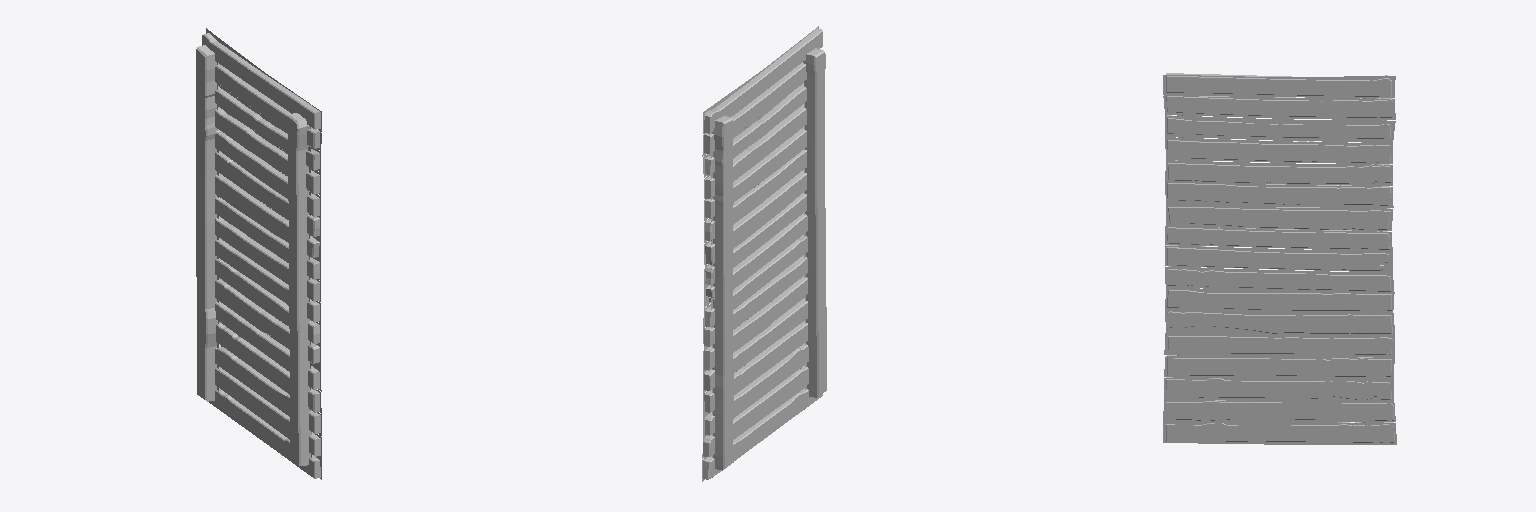
Rendered from bridge_planks.obj.
The picture shows the model from 3 angles: view 1: azimuth 30°, elevation 25°; view 2: azimuth 150°, elevation 25°; view 3: azimuth 270°, elevation 25°; orthographic projection.
Visible parts, largest first — view 1: 210703-1518_APC_0149-hdr-Pano.018, 210703-1518_APC_0149-hdr-Pano.019, 210703-1518_APC_0149-hdr-Pano.017, 210703-1518_APC_0149-hdr-Pano.014, 210703-1518_APC_0149-hdr-Pano.011, 210703-1518_APC_0149-hdr-Pano.001, 210703-1518_APC_0149-hdr-Pano.003, 210703-1518_APC_0149-hdr-Pano.004, 210703-1518_APC_0149-hdr-Pano.006, 210703-1518_APC_0149-hdr-Pano.002, 210703-1518_APC_0149-hdr-Pano.005, 210703-1518_APC_0149-hdr-Pano.009 (+7 smaller); view 2: 210703-1518_APC_0149-hdr-Pano.018, 210703-1518_APC_0149-hdr-Pano.019, 210703-1518_APC_0149-hdr-Pano.017, 210703-1518_APC_0149-hdr-Pano.014, 210703-1518_APC_0149-hdr-Pano.001, 210703-1518_APC_0149-hdr-Pano.011, 210703-1518_APC_0149-hdr-Pano.003, 210703-1518_APC_0149-hdr-Pano.002, 210703-1518_APC_0149-hdr-Pano.006, 210703-1518_APC_0149-hdr-Pano.004, 210703-1518_APC_0149-hdr-Pano.005, 210703-1518_APC_0149-hdr-Pano.013 (+7 smaller); view 3: 210703-1518_APC_0149-hdr-Pano.006, 210703-1518_APC_0149-hdr-Pano.001, 210703-1518_APC_0149-hdr-Pano.003, 210703-1518_APC_0149-hdr-Pano.011, 210703-1518_APC_0149-hdr-Pano.004, 210703-1518_APC_0149-hdr-Pano.017, 210703-1518_APC_0149-hdr-Pano.012, 210703-1518_APC_0149-hdr-Pano.014, 210703-1518_APC_0149-hdr-Pano.015, 210703-1518_APC_0149-hdr-Pano.002, 210703-1518_APC_0149-hdr-Pano.005, 210703-1518_APC_0149-hdr-Pano.013 (+5 smaller).
Part boxes in pixels (x1,y1,x2,y2): 210703-1518_APC_0149-hdr-Pano.018: (196,45,218,401); 210703-1518_APC_0149-hdr-Pano.019: (288,113,311,465); 210703-1518_APC_0149-hdr-Pano.017: (202,28,321,131); 210703-1518_APC_0149-hdr-Pano.014: (215,105,320,195); 210703-1518_APC_0149-hdr-Pano.011: (215,173,320,261); 210703-1518_APC_0149-hdr-Pano.001: (209,388,321,479); 210703-1518_APC_0149-hdr-Pano.003: (215,344,321,435); 210703-1518_APC_0149-hdr-Pano.004: (216,322,321,413); 210703-1518_APC_0149-hdr-Pano.006: (215,278,320,367); 210703-1518_APC_0149-hdr-Pano.002: (215,367,321,458); 210703-1518_APC_0149-hdr-Pano.005: (215,301,321,391); 210703-1518_APC_0149-hdr-Pano.009: (215,216,320,301); 210703-1518_APC_0149-hdr-Pano.018: (711,116,734,470); 210703-1518_APC_0149-hdr-Pano.019: (803,48,826,397); 210703-1518_APC_0149-hdr-Pano.017: (703,26,822,133); 210703-1518_APC_0149-hdr-Pano.014: (704,103,806,198); 210703-1518_APC_0149-hdr-Pano.001: (702,388,822,481); 210703-1518_APC_0149-hdr-Pano.011: (704,170,806,265); 210703-1518_APC_0149-hdr-Pano.003: (703,343,808,437); 210703-1518_APC_0149-hdr-Pano.002: (702,365,808,458); 210703-1518_APC_0149-hdr-Pano.006: (703,276,807,371); 210703-1518_APC_0149-hdr-Pano.004: (703,321,807,415); 210703-1518_APC_0149-hdr-Pano.005: (703,296,807,393); 210703-1518_APC_0149-hdr-Pano.013: (704,127,806,220); 210703-1518_APC_0149-hdr-Pano.006: (1165,309,1394,335); 210703-1518_APC_0149-hdr-Pano.001: (1163,421,1396,444); 210703-1518_APC_0149-hdr-Pano.003: (1164,377,1393,401); 210703-1518_APC_0149-hdr-Pano.011: (1166,202,1392,230); 210703-1518_APC_0149-hdr-Pano.004: (1164,355,1394,379); 210703-1518_APC_0149-hdr-Pano.017: (1163,73,1395,97); 210703-1518_APC_0149-hdr-Pano.012: (1165,181,1393,207); 210703-1518_APC_0149-hdr-Pano.014: (1165,137,1392,163); 210703-1518_APC_0149-hdr-Pano.015: (1165,115,1395,142); 210703-1518_APC_0149-hdr-Pano.002: (1163,400,1395,421); 210703-1518_APC_0149-hdr-Pano.005: (1164,332,1394,357); 210703-1518_APC_0149-hdr-Pano.013: (1165,160,1392,185).
Size of the model in its own units: 0.0814 by 1.74 by 0.9987.